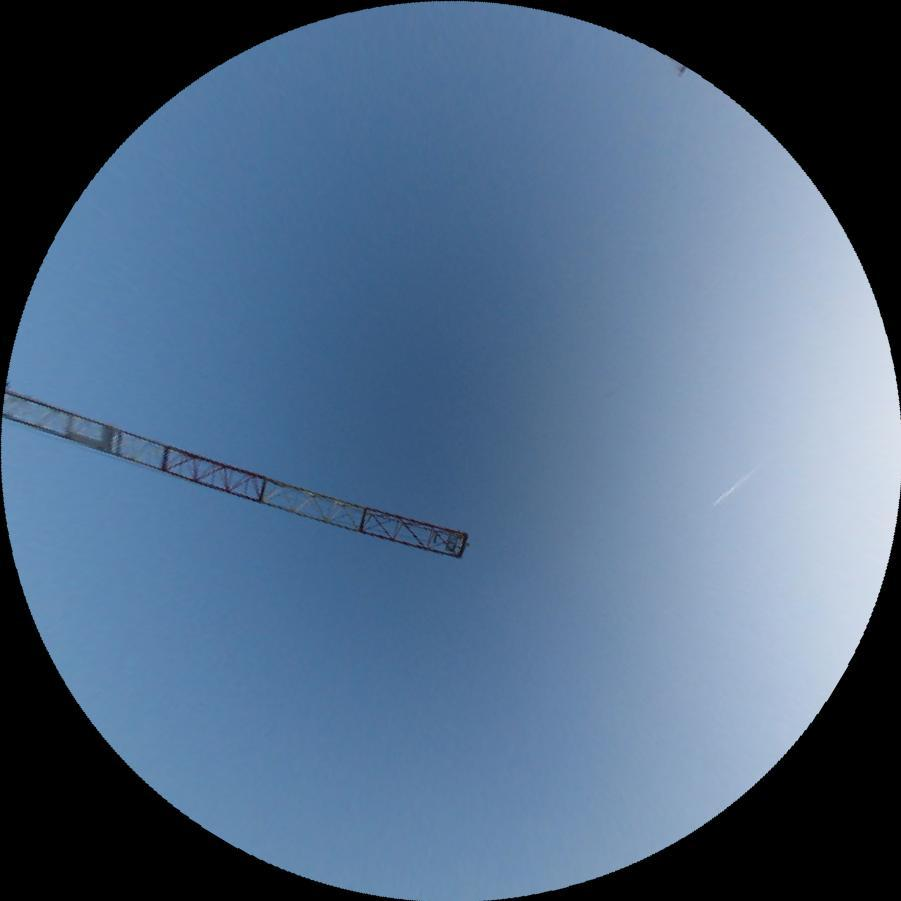contrail young: (709, 460, 762, 507)
